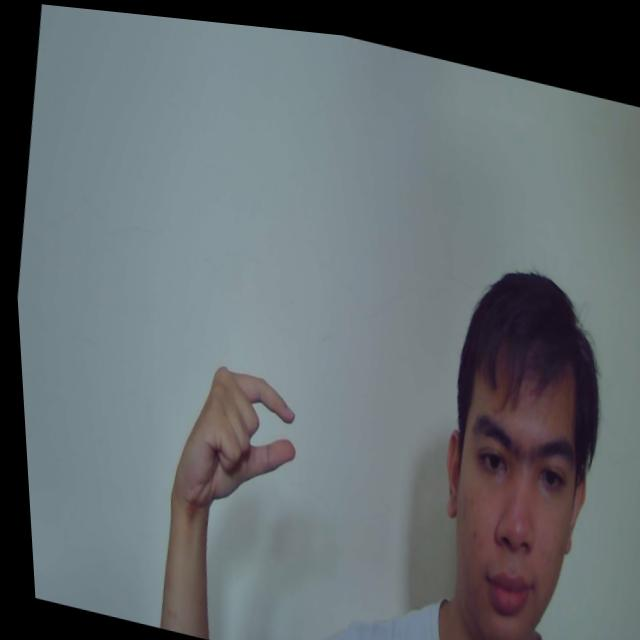G: (157, 351, 306, 526)
